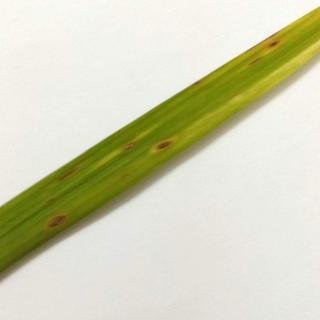Blast: (248, 24, 289, 81), (39, 202, 81, 238), (142, 130, 185, 160), (115, 140, 143, 155)
